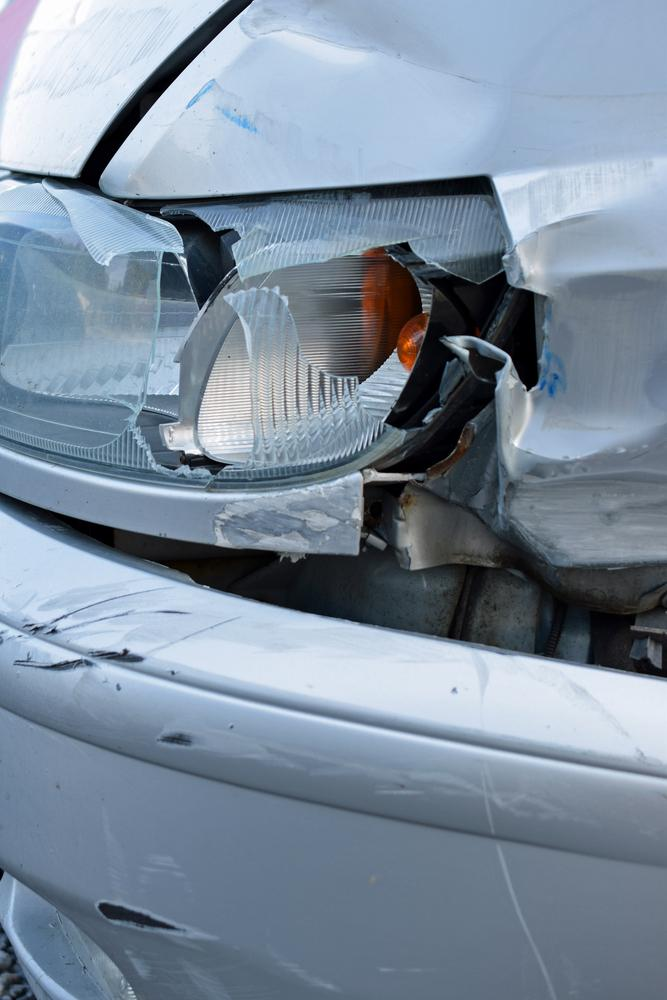dent: (508, 214, 666, 462), (242, 6, 482, 142)
lamp broken: (0, 177, 510, 487)
scratch: (0, 578, 641, 819), (88, 838, 357, 1000), (0, 4, 193, 102)
